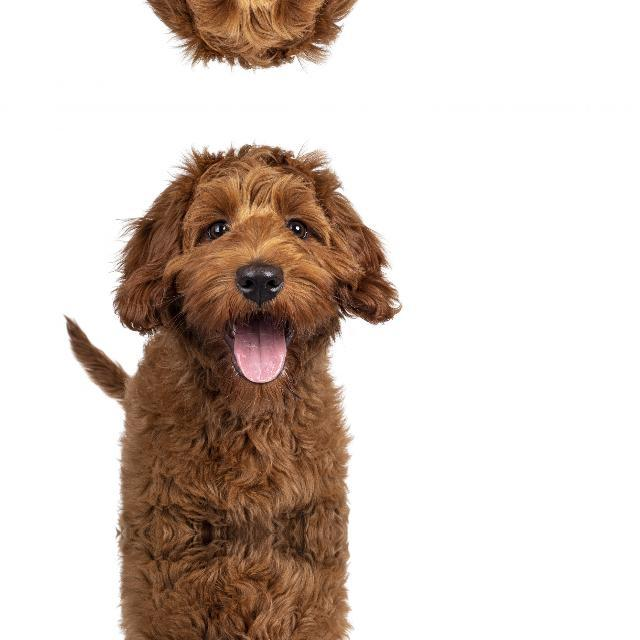dog: (98, 134, 400, 390), (98, 0, 400, 77)
